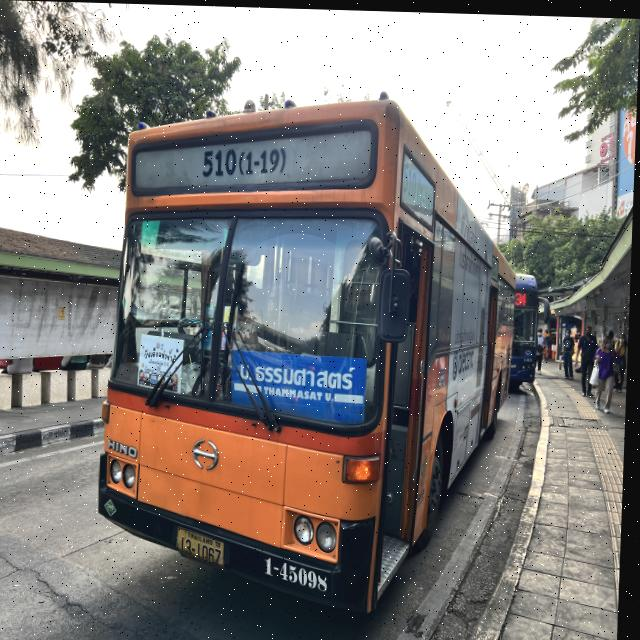BMTA-bus: (97, 89, 527, 618)
Bus-Line-Number: (195, 145, 291, 180)
Destination-Sign-Normal: (235, 348, 372, 421)
TSB-Bus: (512, 266, 548, 391)
